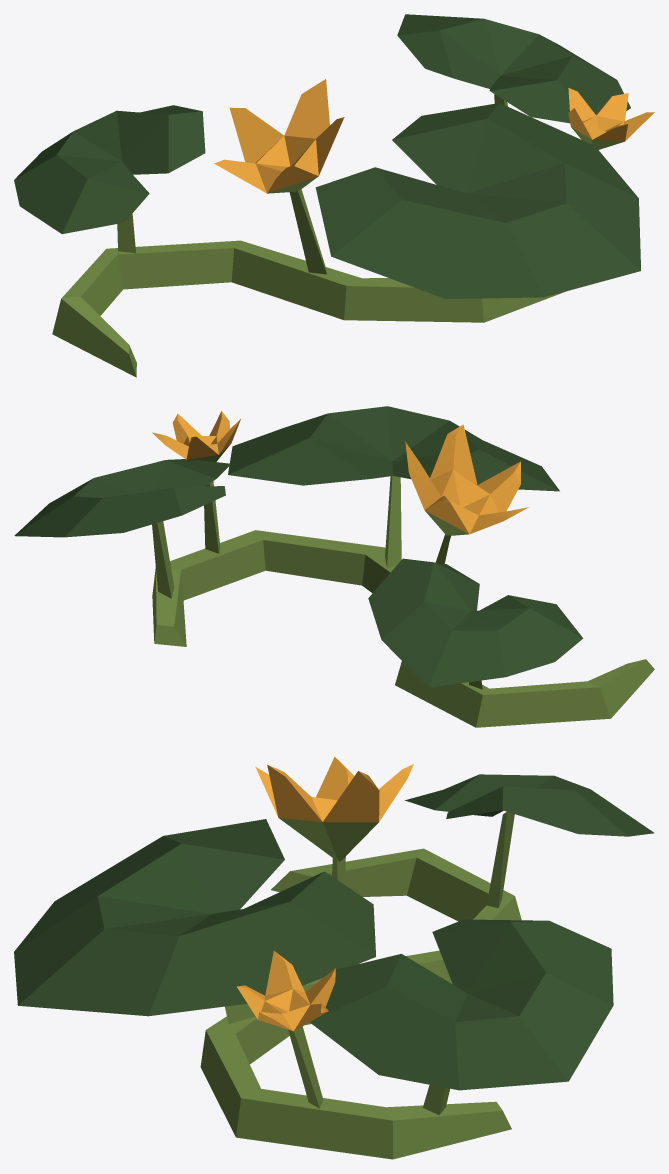
Rendered from leafy_plant_01.glb.
3 views of the same model, one above another, from view 1: azimuth 30°, elevation 25°; view 2: azimuth 150°, elevation 25°; view 3: azimuth 270°, elevation 25° (orthographic). The views are drawn at different scales.
Parts seen in each view (by area): view 1: SM_Prop_Plant_Ground_01_L; view 2: SM_Prop_Plant_Ground_01_L; view 3: SM_Prop_Plant_Ground_01_L.
Boxes of the visible parts, bbox=[...] form: SM_Prop_Plant_Ground_01_L: bbox=[14, 14, 654, 377]; SM_Prop_Plant_Ground_01_L: bbox=[14, 406, 654, 727]; SM_Prop_Plant_Ground_01_L: bbox=[14, 757, 654, 1159].
Size of the model in its own units: 1.3 by 0.4606 by 1.09.
Materials: 1 (1 with a texture image).
